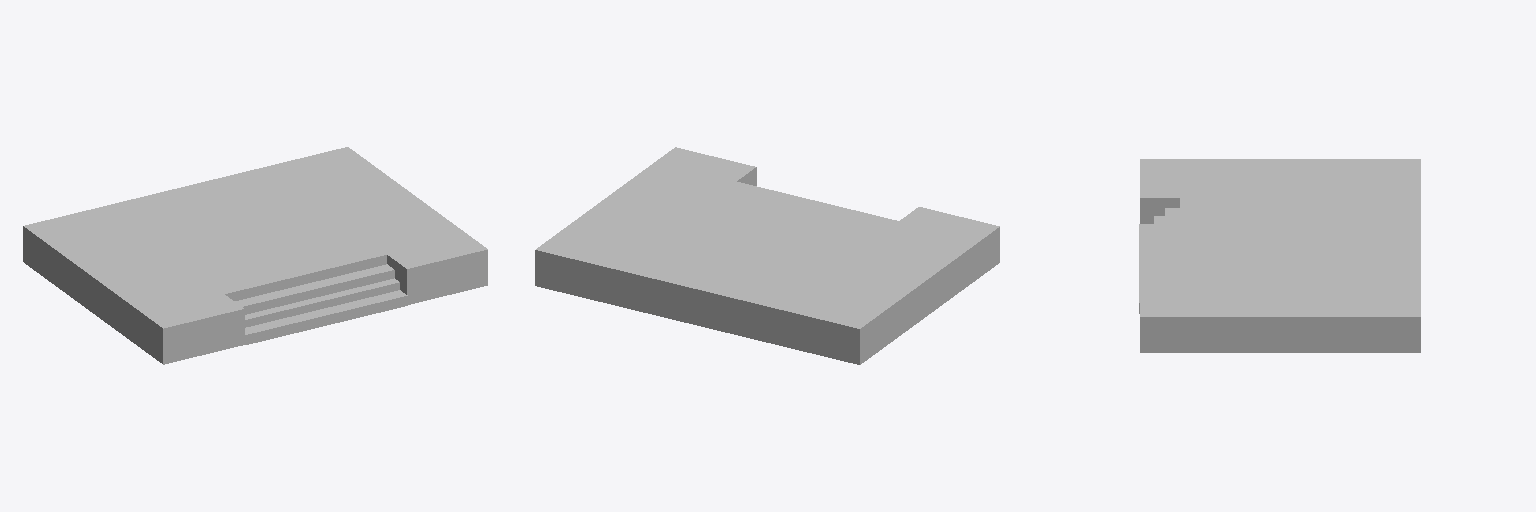
Rendered from temple_kaidan.obj.
The picture shows the model from 3 angles: view 1: azimuth 30°, elevation 25°; view 2: azimuth 150°, elevation 25°; view 3: azimuth 270°, elevation 25°; orthographic projection.
Visible parts, largest first — view 1: Cube.003_Cube.007; view 2: Cube.003_Cube.007; view 3: Cube.003_Cube.007.
Part boxes in pixels (bbox=[...]): Cube.003_Cube.007: bbox=[23, 147, 487, 364]; Cube.003_Cube.007: bbox=[535, 147, 999, 364]; Cube.003_Cube.007: bbox=[1139, 159, 1420, 352].
Size of the model in its own units: 4.97 by 0.529 by 3.74.